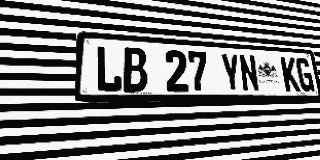2: (164, 50, 189, 92)
7: (186, 51, 210, 92)
B: (122, 47, 148, 92)
G: (295, 58, 315, 91)
K: (280, 57, 300, 92)
L: (95, 45, 122, 92)
N: (238, 54, 260, 92)
Y: (220, 53, 242, 92)
